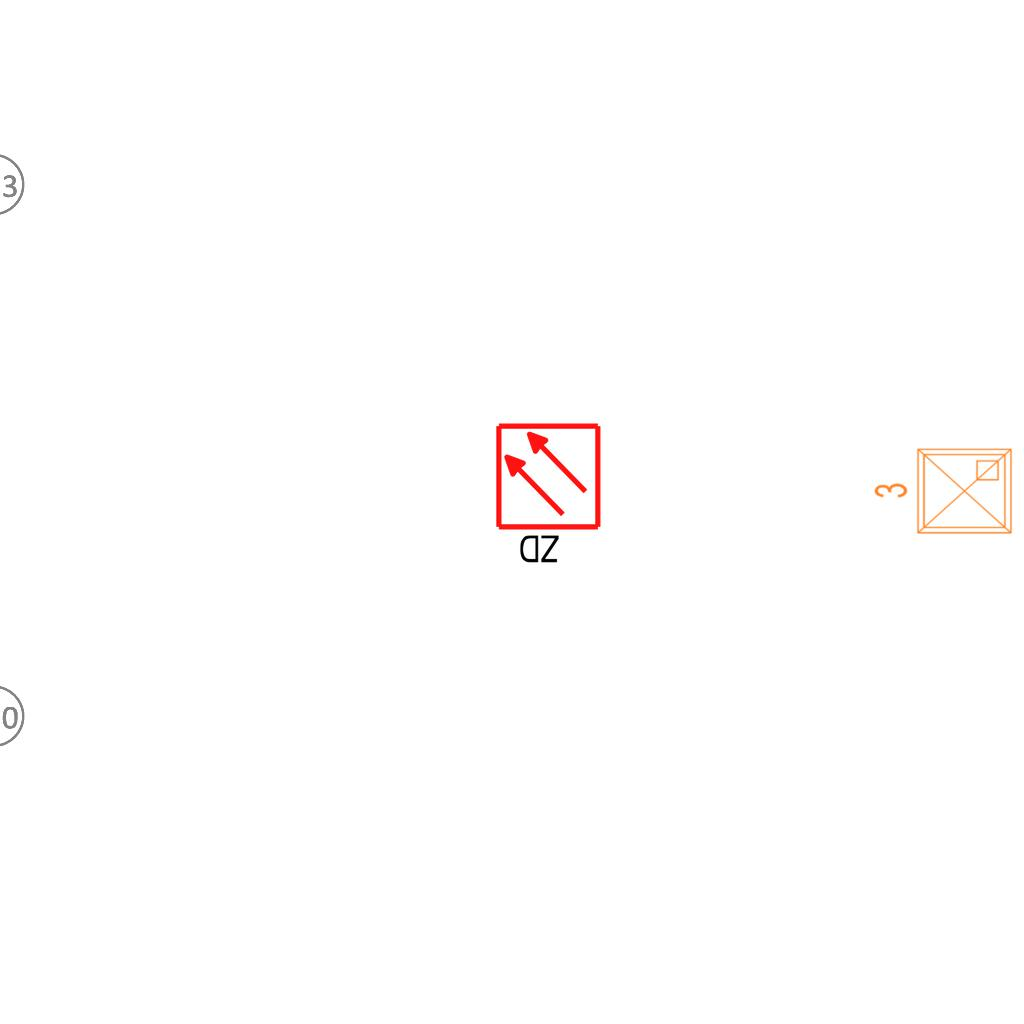Einbaudownlights_LED_Konferenzraeume: (869, 441, 1019, 545)
ZD_Melder_in_Zwischendecke_mit_Revisionsoeffnung_mind_40_x_40_cm: (493, 421, 607, 570)
